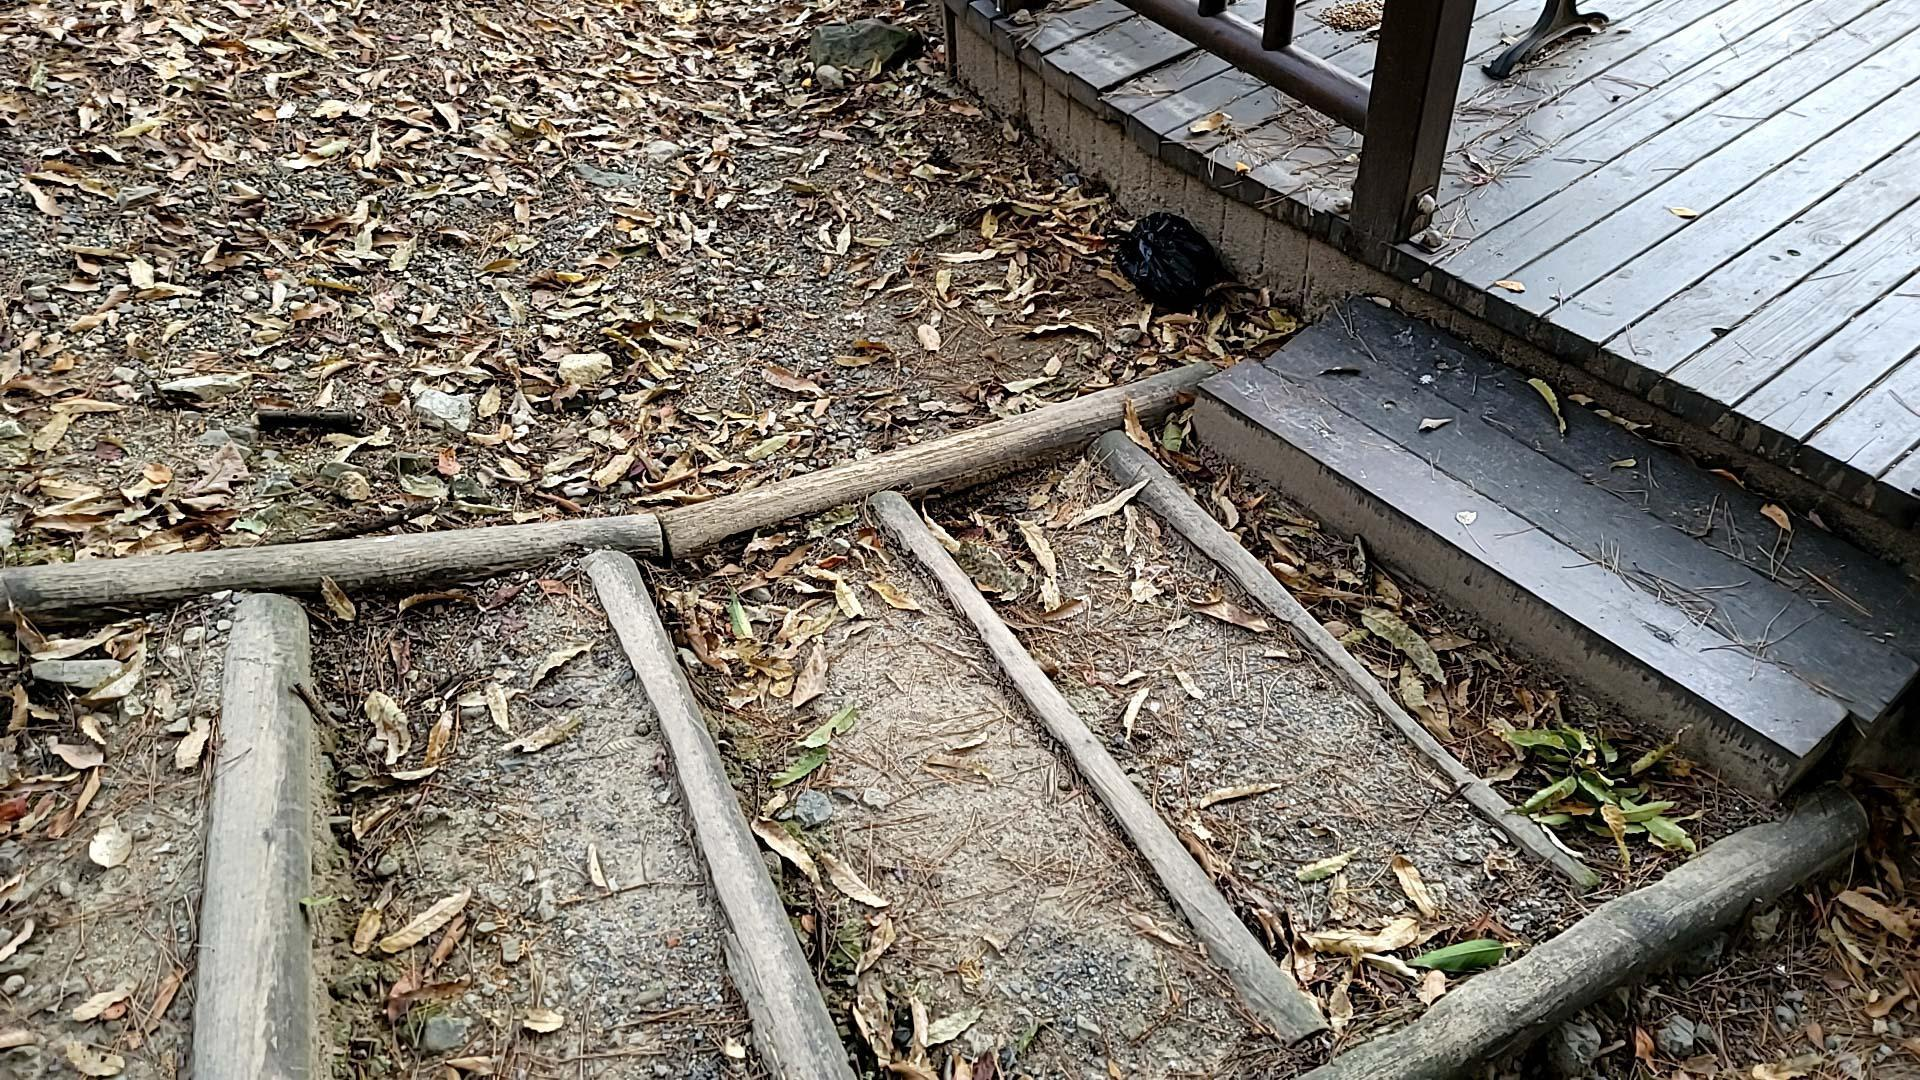black_bag: (1112, 203, 1247, 316)
